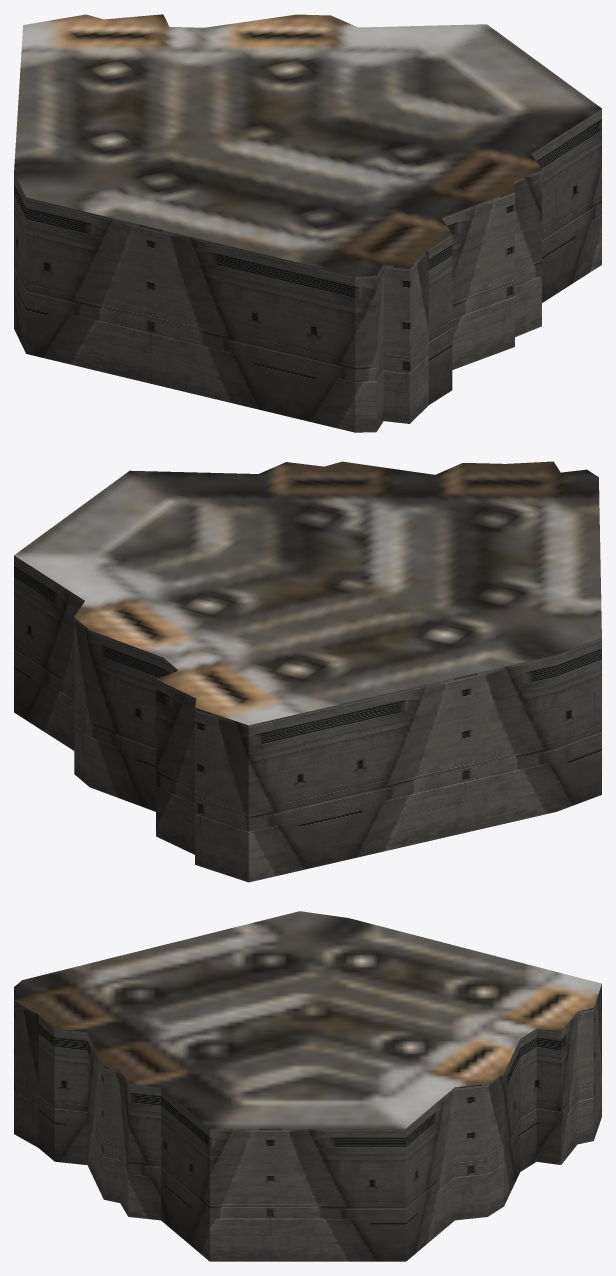
The model's file is fortress_heavy_a_48.glb.
3 renders of one model, top to bottom at view 1: azimuth 30°, elevation 25°; view 2: azimuth 150°, elevation 25°; view 3: azimuth 270°, elevation 25°, orthographic. The views are drawn at different scales.
Parts seen in each view (by area): view 1: buildings/saxarba/fortress_heavy/fortress_heavy_a_48; view 2: buildings/saxarba/fortress_heavy/fortress_heavy_a_48; view 3: buildings/saxarba/fortress_heavy/fortress_heavy_a_48.
Boxes of the visible parts, bbox=[...] form: buildings/saxarba/fortress_heavy/fortress_heavy_a_48: bbox=[14, 14, 601, 432]; buildings/saxarba/fortress_heavy/fortress_heavy_a_48: bbox=[14, 461, 601, 882]; buildings/saxarba/fortress_heavy/fortress_heavy_a_48: bbox=[14, 911, 601, 1261].
Size of the model in its own units: 63 by 18 by 72.
